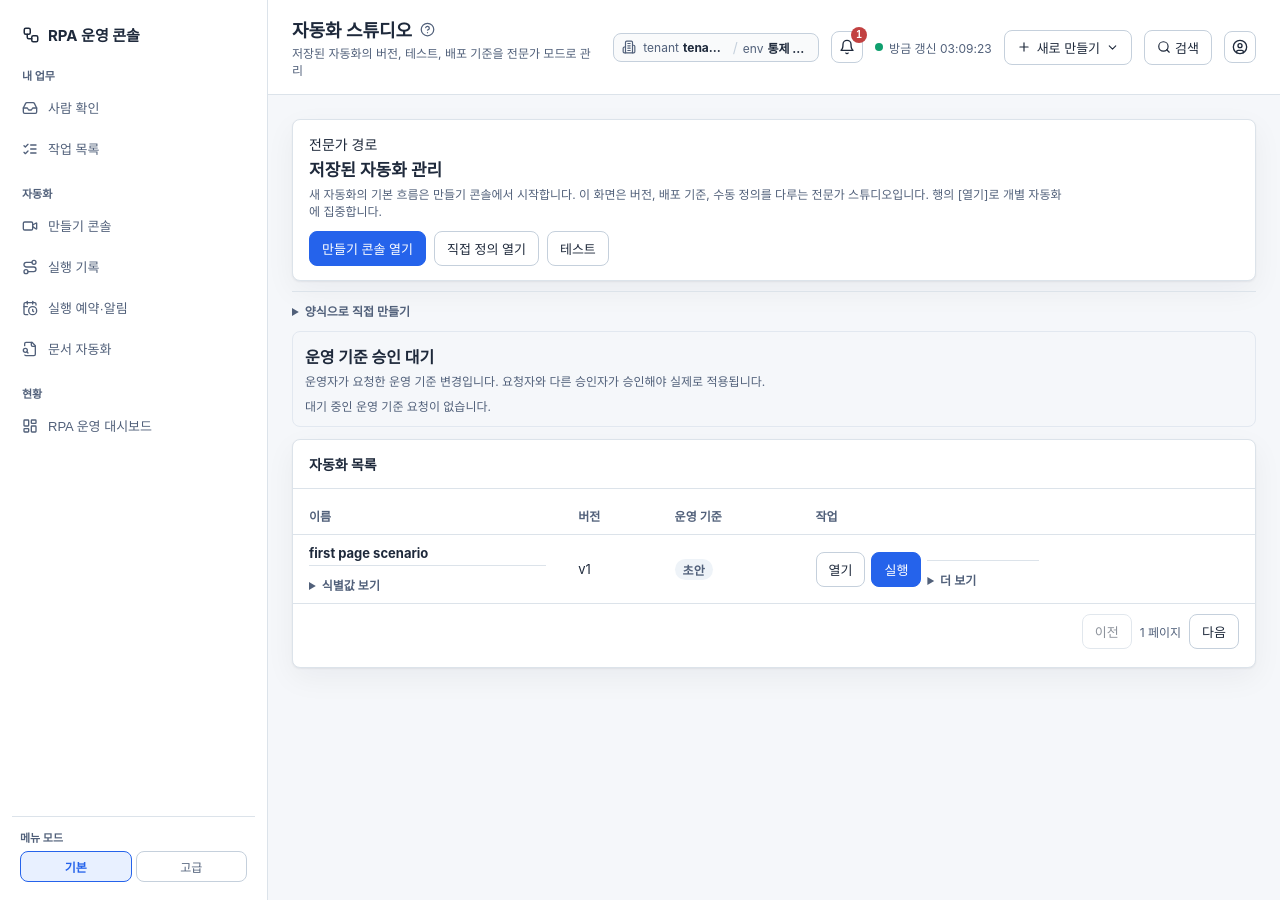
Scenario: Scenario studio pagination › scenario list follows next_cursor instead of showing only the first page
The image size is (1280, 900).
Expected: the text "first page scenario" is shown, left=309, top=545, right=428, bottom=561
Click the button "다음": [1214, 632] box left=1189, top=614, right=1239, bottom=649
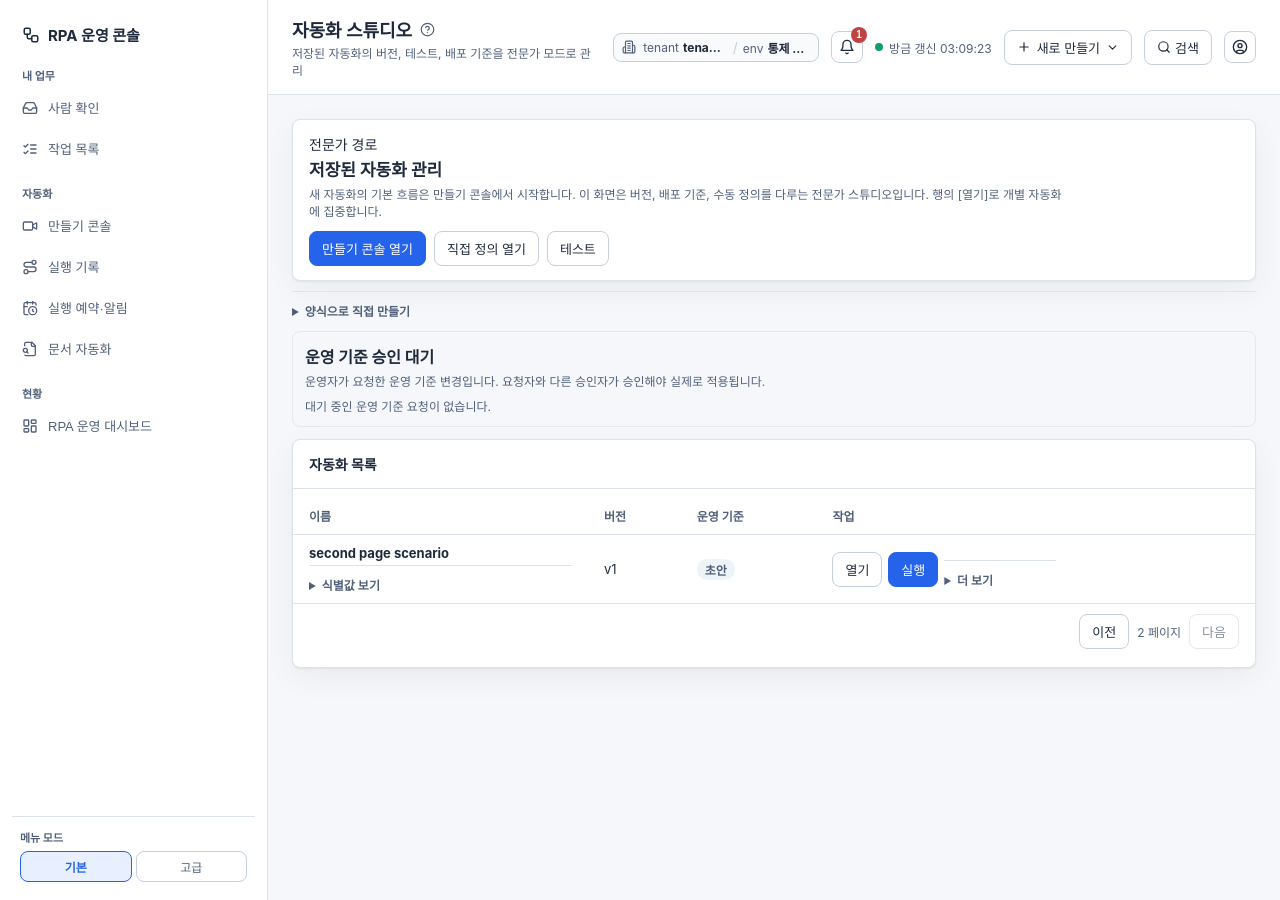
Now the text "second page scenario" is shown, box left=309, top=545, right=449, bottom=561
